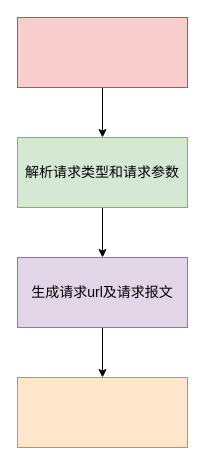
The diagram is 205 pixels wide and 465 high, and some of its shapes have lost their labels. The box of each missing label's shape, as (x1, y1, x2, y2) in pixels:
获取接口信息: (16, 16, 188, 88)
输出请求报文: (16, 376, 188, 448)
